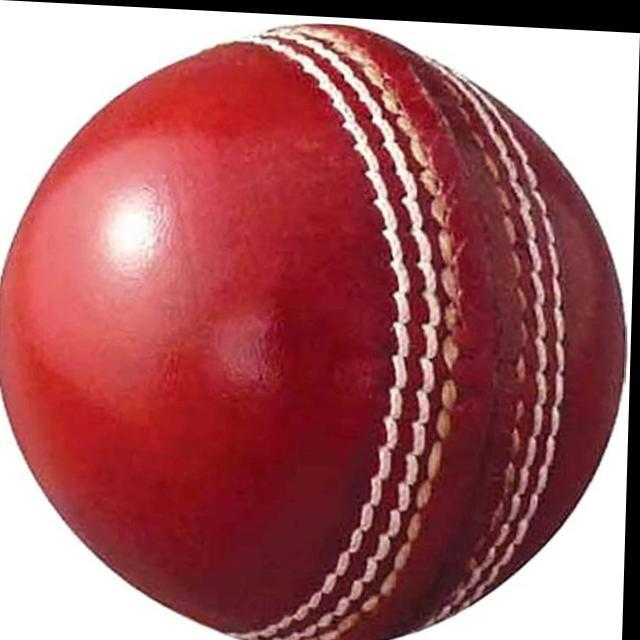cricket ball: (0, 22, 628, 640)
